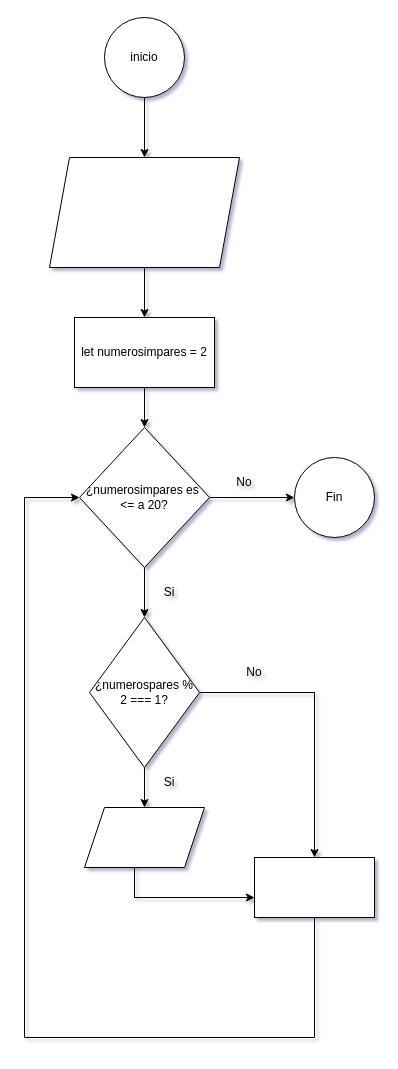
This 398x1069 diagram has some shape labels left out. Here are the shapes that lost their labels. From the top down, the centre of each, then its label:
(144,212): "Numeros impares del 1 al 20"
(144,837): `numerosimpares`
(314,887): numerosimpares++
